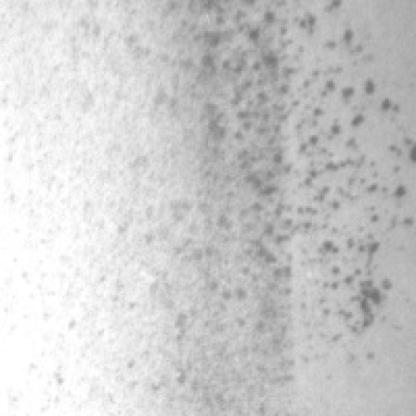pitted_surface: (116, 0, 416, 395)
